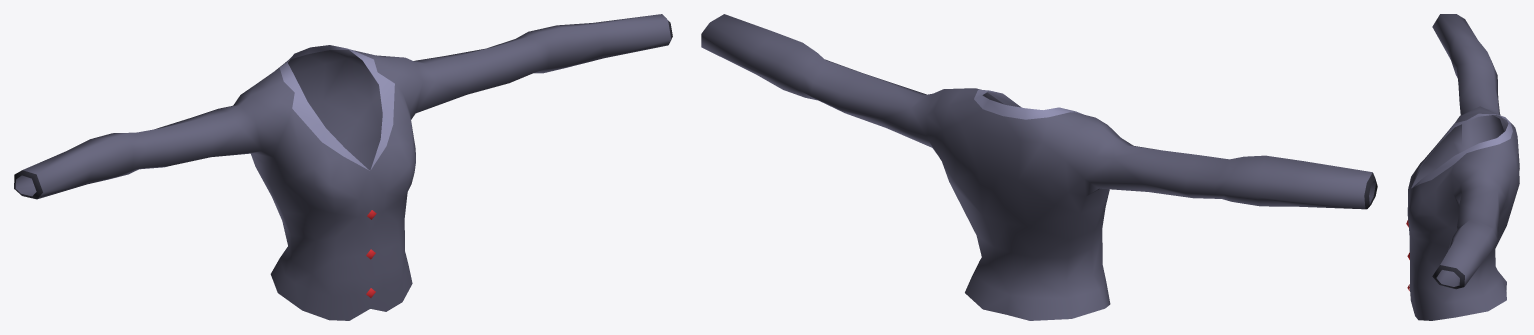
Rendered from Jacket.fbx.
The picture shows the model from 3 angles, left to right: view 1: azimuth 30°, elevation 25°; view 2: azimuth 150°, elevation 25°; view 3: azimuth 270°, elevation 25°; orthographic projection. The views are drawn at different scales.
Visible parts, largest first — view 1: Jacket_01; view 2: Jacket_01; view 3: Jacket_01.
Part boxes in pixels (x1=…): Jacket_01: x1=14, y1=14, x2=672, y2=320; Jacket_01: x1=701, y1=14, x2=1377, y2=320; Jacket_01: x1=1406, y1=14, x2=1519, y2=320.
Size of the model in its own units: 141 by 47.14 by 26.28.
